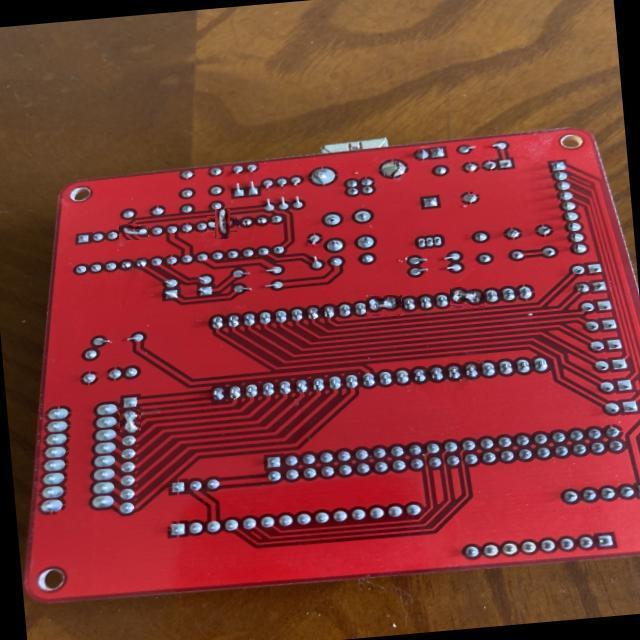damged: (366, 296, 402, 316), (450, 288, 484, 308), (119, 408, 141, 434), (211, 212, 234, 236), (119, 224, 148, 240)
